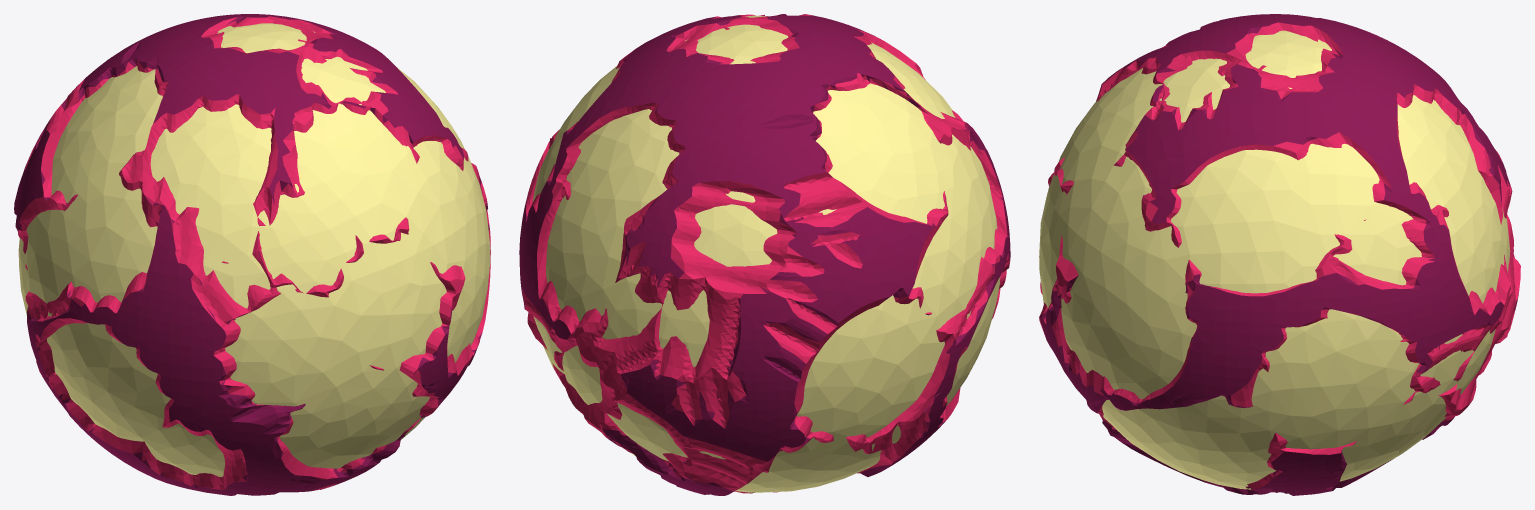
File: Planet_47.glb
3 renders of one model, left to right at view 1: azimuth 30°, elevation 25°; view 2: azimuth 150°, elevation 25°; view 3: azimuth 270°, elevation 25°, orthographic.
Parts seen in each view (by area): view 1: Planet_47; view 2: Planet_47; view 3: Planet_47.
Boxes of the visible parts, x1,y1,x2,y2 form: Planet_47: (14, 14, 490, 495); Planet_47: (519, 14, 1010, 495); Planet_47: (1039, 14, 1520, 495).
Size of the model in its own units: 20 by 20 by 20.
Materials: 1 (1 with a texture image).
